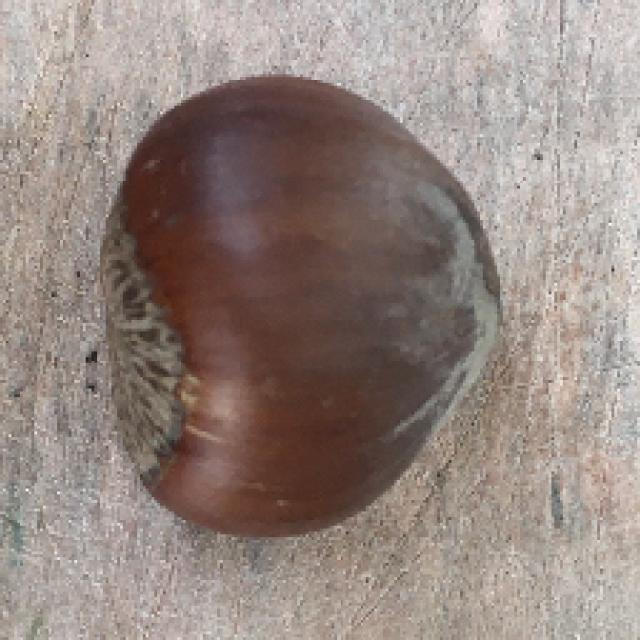damagedHazelnut: (92, 77, 520, 538)
